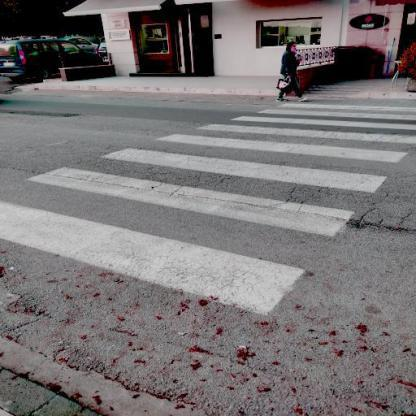crosswalk: (21, 143, 390, 244), (224, 107, 416, 133)
